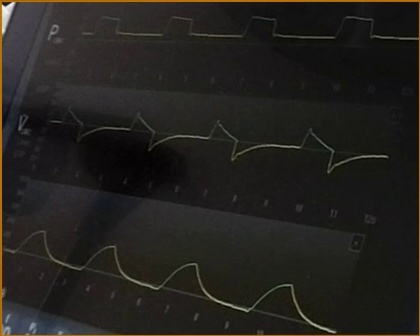Normal Flow: (50, 98, 388, 179)
Normal Volume: (3, 227, 336, 332)
